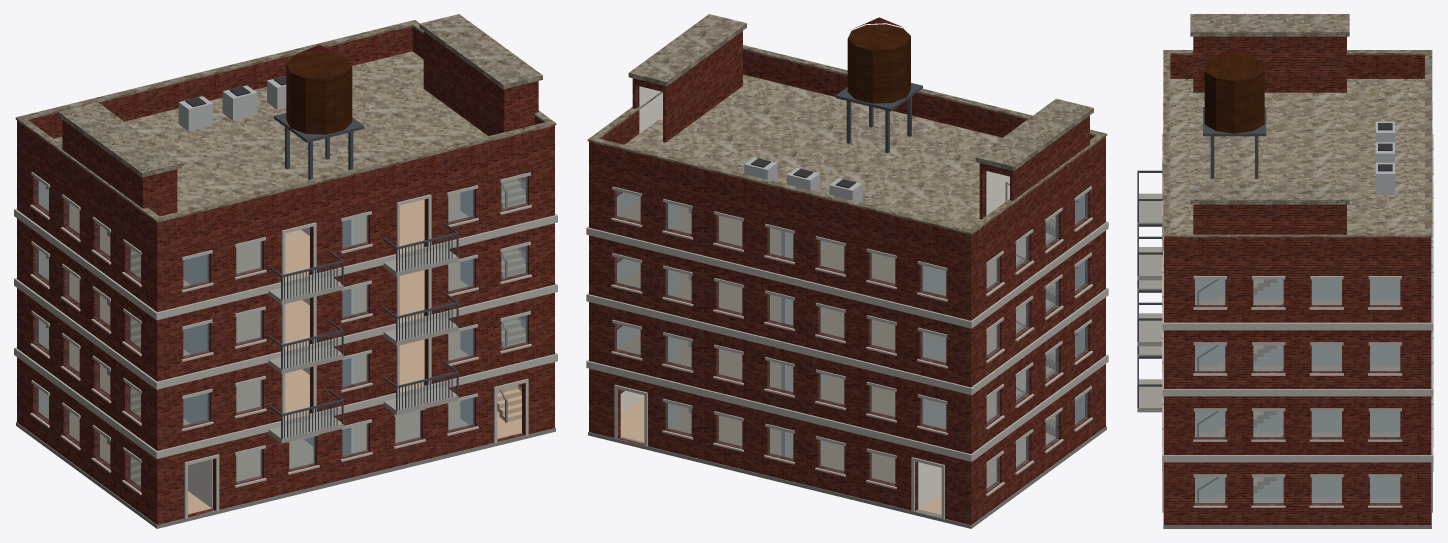
File: mh-block-flats.towns-v1.lod0.glb
3 renders of one model, left to right at view 1: azimuth 30°, elevation 25°; view 2: azimuth 150°, elevation 25°; view 3: azimuth 270°, elevation 25°, orthographic. The views are drawn at different scales.
Visible parts, largest first — view 1: mh-block-flats; view 2: mh-block-flats; view 3: mh-block-flats.
Part boxes in pixels (x1=…): mh-block-flats: x1=14, y1=14, x2=557, y2=528; mh-block-flats: x1=586, y1=14, x2=1108, y2=528; mh-block-flats: x1=1137, y1=14, x2=1433, y2=528.
Bounding box in the file's own units: 18.18 × 17.65 × 12.19.
Materials: 7 (3 with a texture image).
